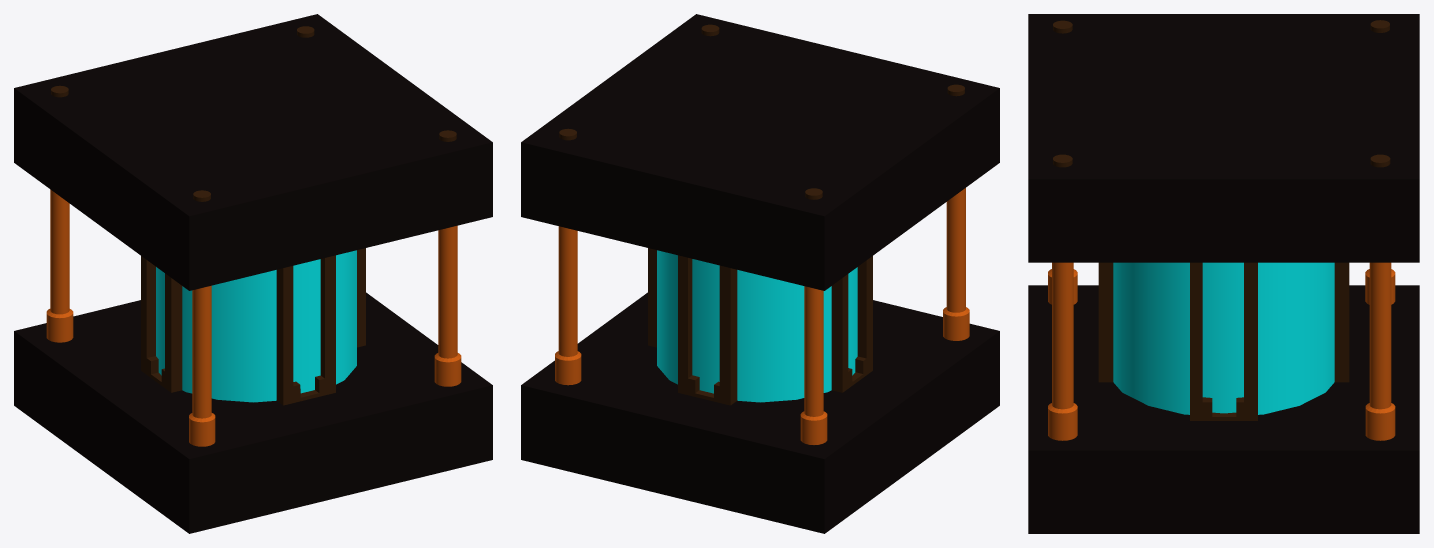
The model's file is Bloc_generateur.FBX.
3 views of the same model, side by side, from view 1: azimuth 30°, elevation 25°; view 2: azimuth 150°, elevation 25°; view 3: azimuth 270°, elevation 25° (orthographic). The views are drawn at different scales.
Parts seen in each view (by area): view 1: Bloc Generateur Deplié; view 2: Bloc Generateur Deplié; view 3: Bloc Generateur Deplié.
Boxes of the visible parts, x1,y1,x2,y2 form: Bloc Generateur Deplié: (14, 14, 492, 533); Bloc Generateur Deplié: (521, 14, 999, 533); Bloc Generateur Deplié: (1028, 14, 1419, 533).
Bounding box in the file's own units: 286 × 290 × 286.
